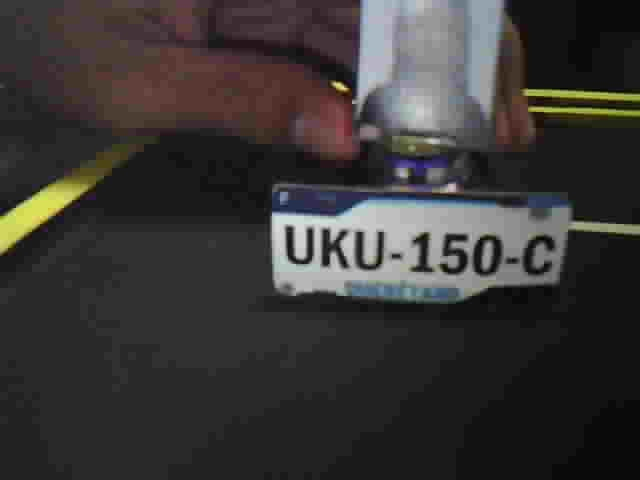PLACA: (268, 181, 573, 313)
ROSTRO: (363, 3, 489, 130)
